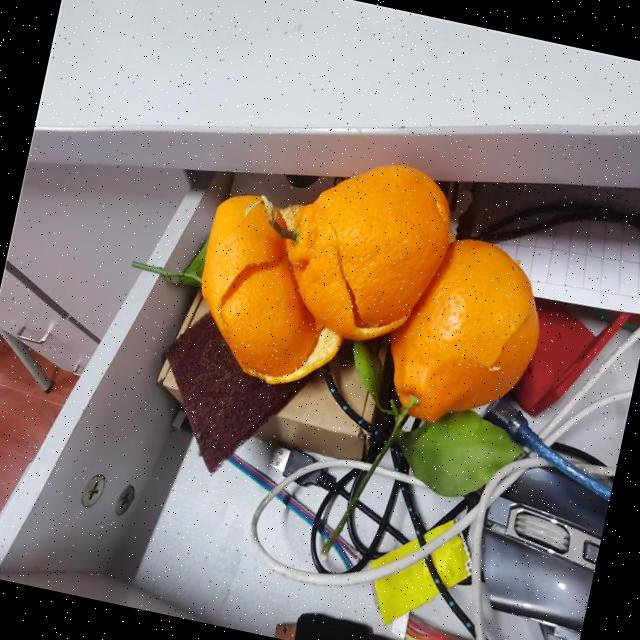orange-peel: (266, 142, 464, 356), (178, 184, 368, 396), (373, 224, 556, 441)
